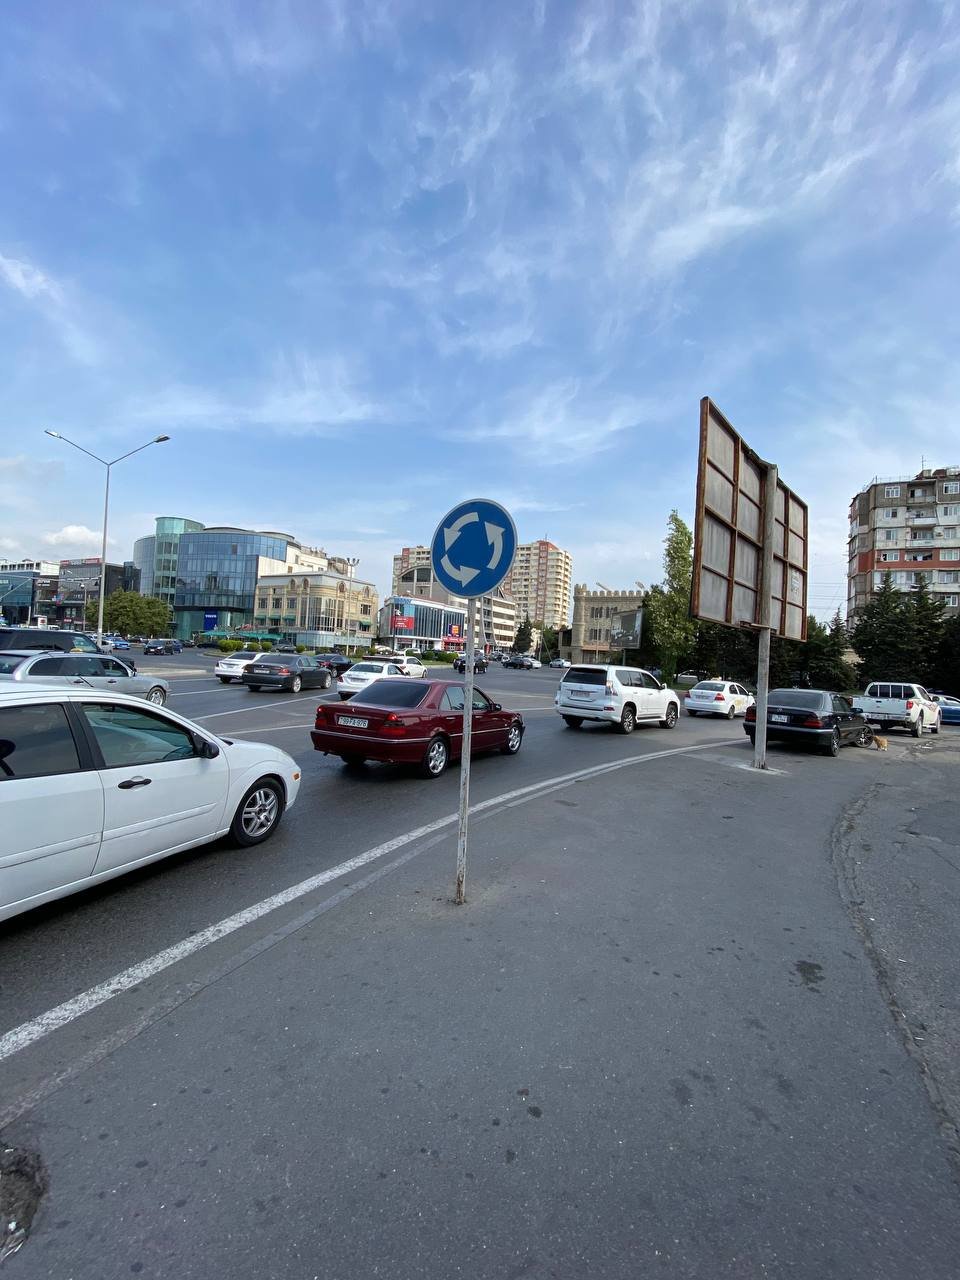Round-About: (430, 498, 517, 599)
